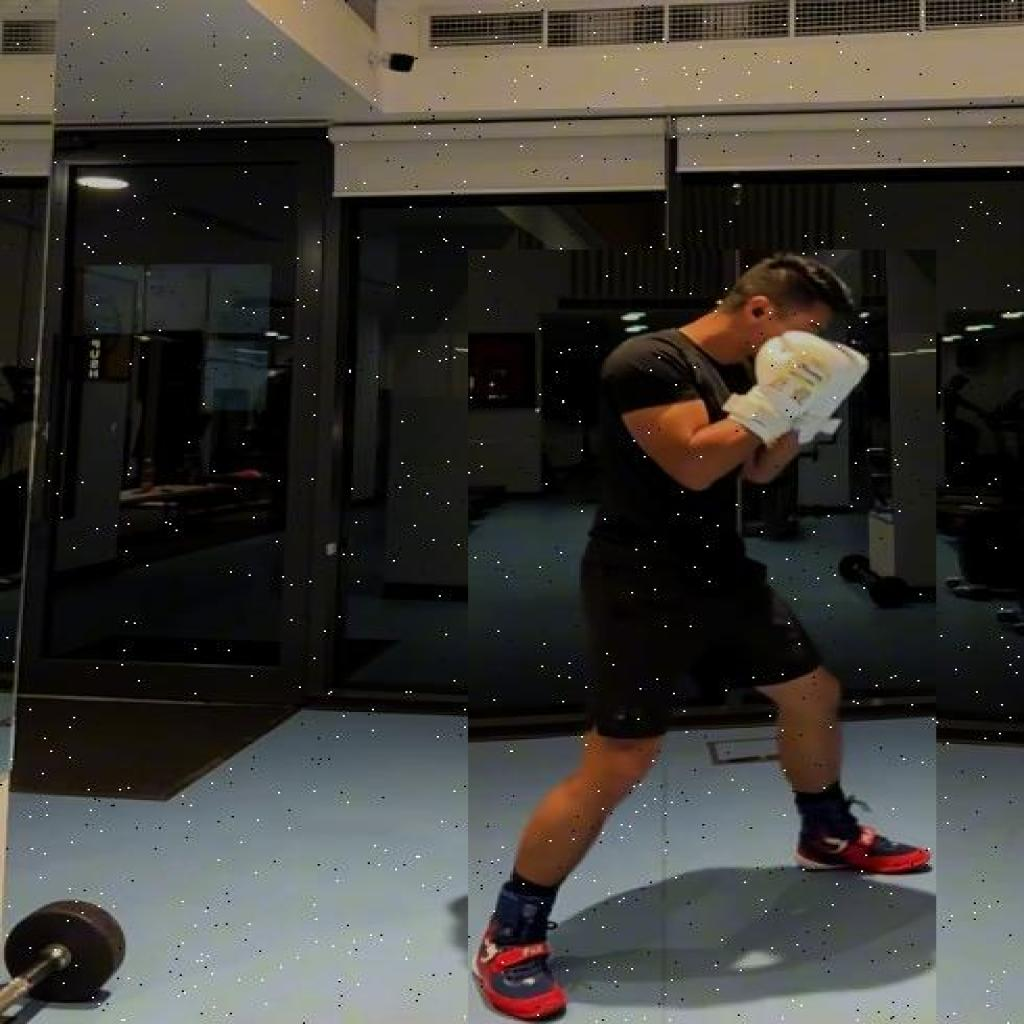no punch: (468, 250, 935, 1023)
